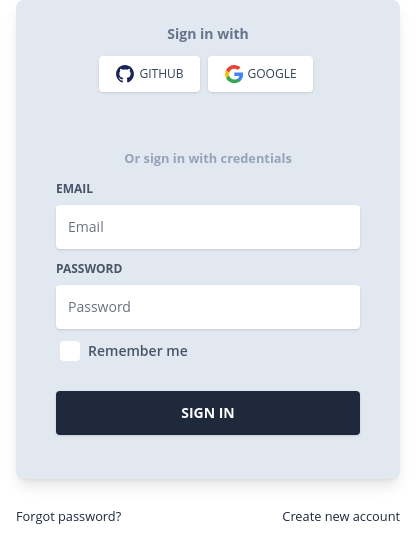
Test: Login User › Entering invalid username
Type "email@email.com" into the field with test id "email" at (208, 227), box [56,205,360,249]
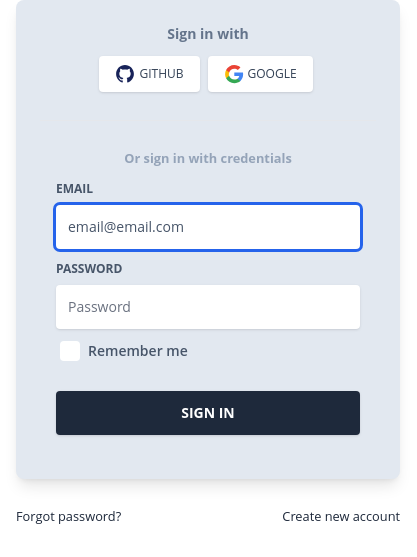
Type "password" into the password field with test id "password" at (208, 307), box [56,285,360,329]
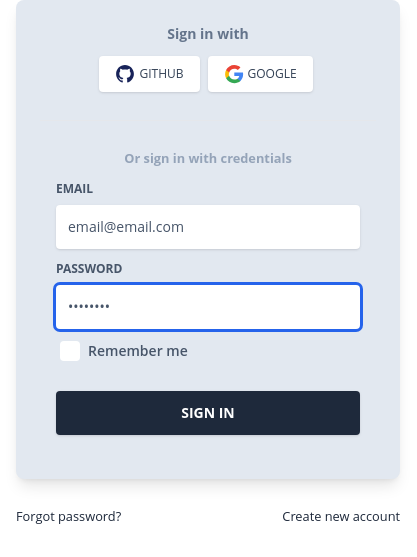
Clear the field with test id "email" at (208, 227), box [56,205,360,249]
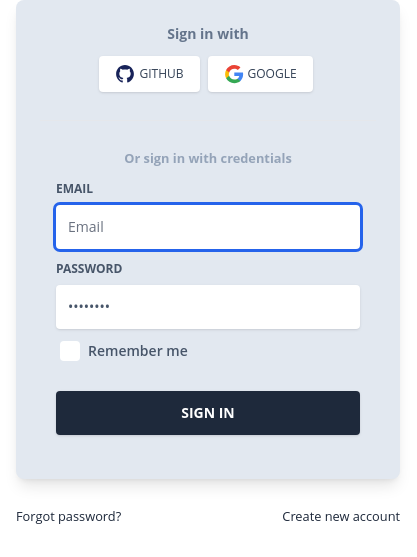
Click the button with test id "login" at (208, 413), box [56,391,360,435]
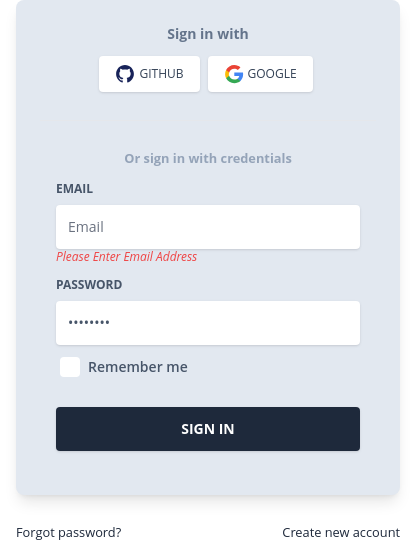
Expected: the text "Please Enter Email Address" is shown, [56,248,197,265]
